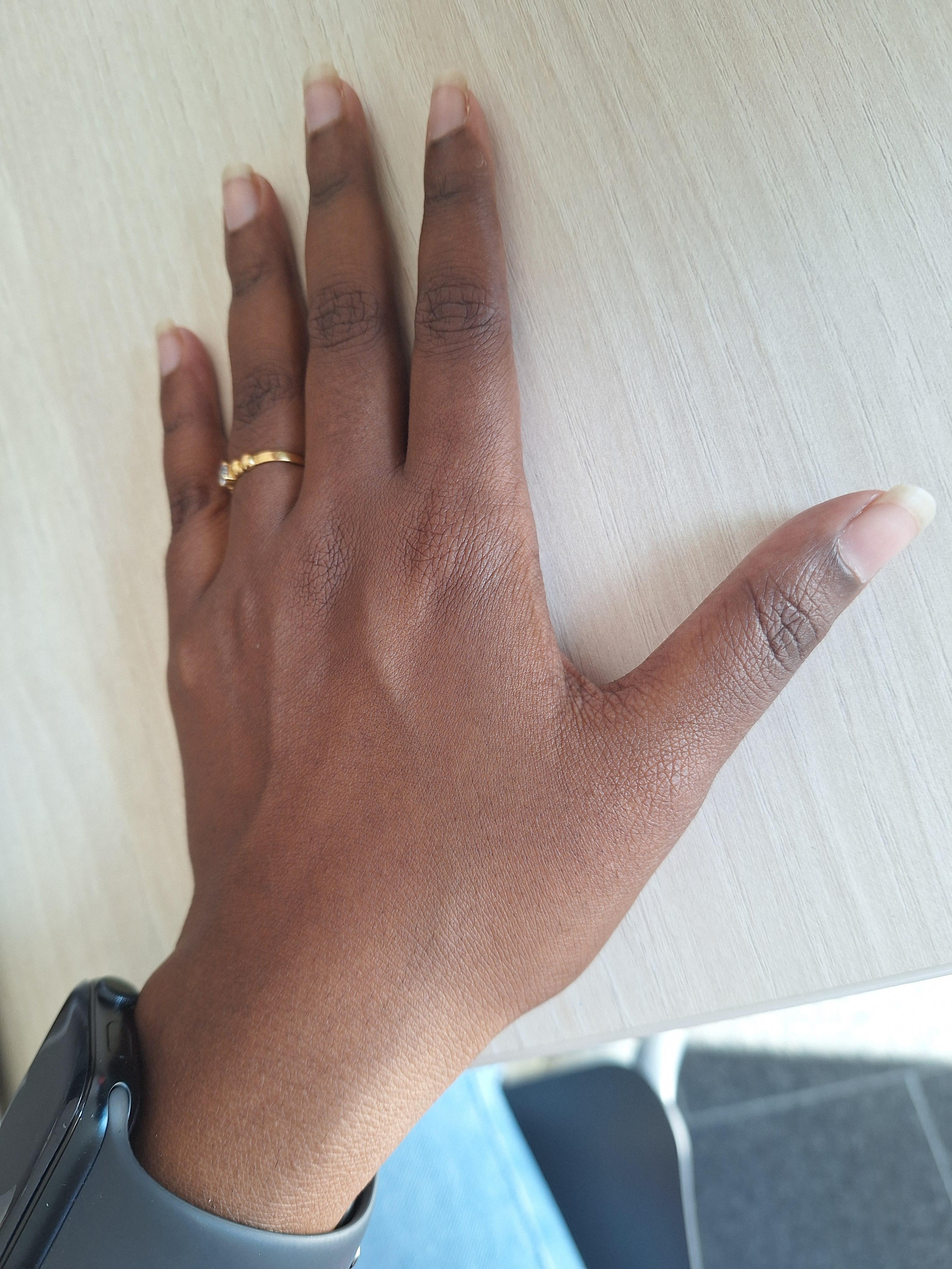Fingernail: (838, 485, 936, 585), (429, 68, 467, 138), (220, 162, 258, 232), (303, 63, 340, 132), (154, 320, 181, 377)
